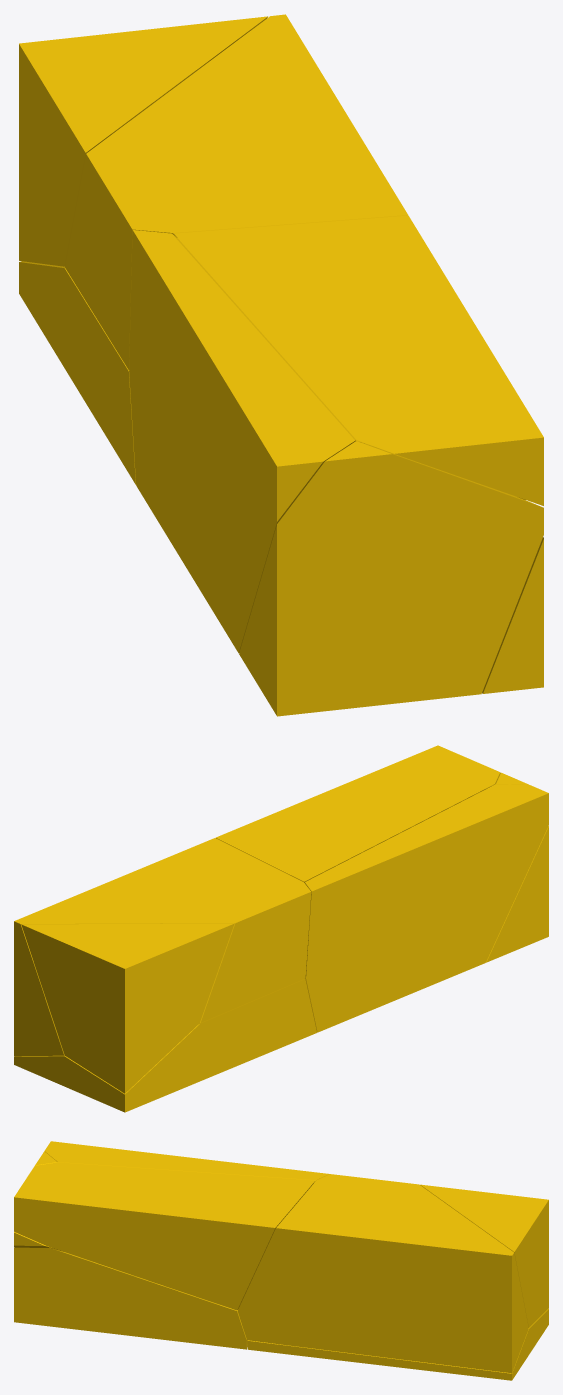
Rendered from BlockModel(Destroyed).fbx.
The picture shows the model from 3 angles, top to bottom: view 1: azimuth 30°, elevation 25°; view 2: azimuth 150°, elevation 25°; view 3: azimuth 270°, elevation 25°; orthographic projection. The views are drawn at different scales.
Parts seen in each view (by area): view 1: BlockModel_cell, BlockModel_cell.002, BlockModel_cell.003, BlockModel_cell.005, BlockModel_cell.004, BlockModel_cell.007, BlockModel_cell.001; view 2: BlockModel_cell.003, BlockModel_cell.005, BlockModel_cell.004, BlockModel_cell.002, BlockModel_cell.007, BlockModel_cell; view 3: BlockModel_cell.005, BlockModel_cell.002, BlockModel_cell.001, BlockModel_cell.004, BlockModel_cell.003, BlockModel_cell.007, BlockModel_cell.
Boxes of the visible parts, box(x1,y1,x2,y2) form: BlockModel_cell: box(239, 441, 543, 716); BlockModel_cell.002: box(174, 215, 543, 505); BlockModel_cell.003: box(129, 230, 369, 653); BlockModel_cell.005: box(65, 14, 408, 369); BlockModel_cell.004: box(19, 16, 267, 266); BlockModel_cell.007: box(19, 261, 136, 484); BlockModel_cell.001: box(482, 497, 543, 693); BlockModel_cell.003: box(304, 784, 548, 1032); BlockModel_cell.005: box(14, 838, 311, 1056); BlockModel_cell.004: box(21, 923, 234, 1093); BlockModel_cell.002: box(216, 745, 499, 882); BlockModel_cell.007: box(14, 979, 316, 1112); BlockModel_cell: box(486, 772, 548, 962); BlockModel_cell.005: box(238, 1174, 528, 1373); BlockModel_cell.002: box(14, 1162, 314, 1310); BlockModel_cell.001: box(14, 1247, 247, 1349); BlockModel_cell.004: box(420, 1184, 548, 1327); BlockModel_cell.003: box(44, 1141, 329, 1182); BlockModel_cell.007: box(247, 1309, 548, 1380); BlockModel_cell: box(14, 1151, 61, 1251).
Bounding box in the file's own units: 78.71 × 40 × 155.
